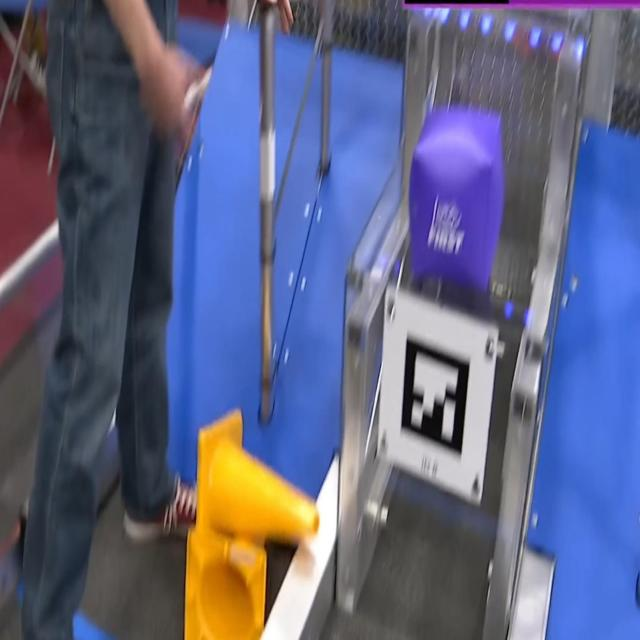frc_cone: (196, 406, 320, 542), (186, 525, 266, 640)
frc_cube: (407, 109, 499, 294)
